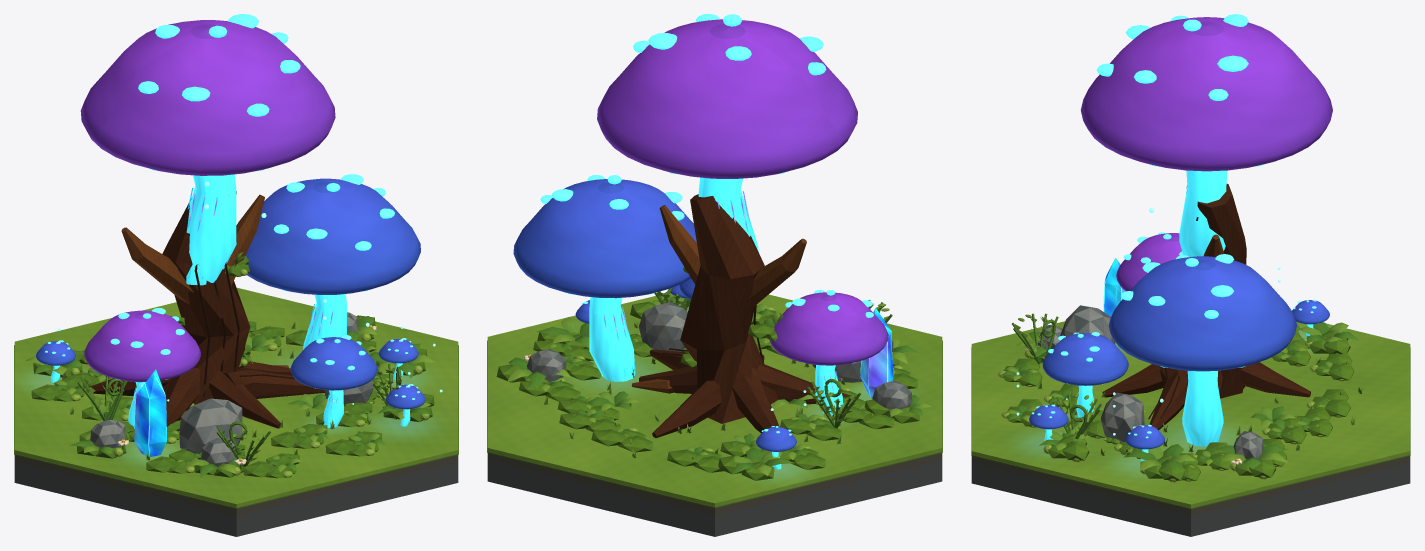
File: hex_bioluminescent_grove.glb
3 renders of one model, left to right at view 1: azimuth 30°, elevation 25°; view 2: azimuth 150°, elevation 25°; view 3: azimuth 270°, elevation 25°, orthographic. The views are drawn at different scales.
Parts seen in each view (by area): view 1: Standard hex meadow top.001, Broad faceted mushroom cap.002, Broad faceted mushroom cap.003, Standard hex stone foundation.001, Ancient twisting trunk.001, Broad faceted mushroom cap.004, Curving luminous mushroom stem.002, Standard hex earth layer.001, Broad faceted mushroom cap.005, Angular mossy forest boulder.001, Faceted magical crystal.001, Broken woodland branch.002 (+12 smaller); view 2: Standard hex meadow top.001, Broad faceted mushroom cap.002, Broad faceted mushroom cap.003, Ancient twisting trunk.001, Standard hex stone foundation.001, Broad faceted mushroom cap.004, Standard hex earth layer.001, Curving luminous mushroom stem.003, Angular mossy forest boulder.002, Tree buttress root.006, Tree buttress root.007, Curving luminous mushroom stem.002 (+10 smaller); view 3: Standard hex meadow top.001, Broad faceted mushroom cap.002, Broad faceted mushroom cap.003, Standard hex stone foundation.001, Broad faceted mushroom cap.005, Standard hex earth layer.001, Curving luminous mushroom stem.002, Curving luminous mushroom stem.003, Ancient twisting trunk.001, Broad faceted mushroom cap.004, Angular mossy forest boulder.002, Gnarled exposed root.001 (+8 smaller).
Part boxes in pixels (<box>): Standard hex meadow top.001: <box>14,287,458,507</box>; Broad faceted mushroom cap.002: <box>80,20,335,175</box>; Broad faceted mushroom cap.003: <box>245,178,420,294</box>; Standard hex stone foundation.001: <box>14,462,458,536</box>; Ancient twisting trunk.001: <box>162,191,250,404</box>; Broad faceted mushroom cap.004: <box>84,310,200,382</box>; Curving luminous mushroom stem.002: <box>186,174,236,285</box>; Standard hex earth layer.001: <box>14,455,458,515</box>; Broad faceted mushroom cap.005: <box>290,337,377,390</box>; Angular mossy forest boulder.001: <box>179,398,242,457</box>; Faceted magical crystal.001: <box>134,369,166,456</box>; Broken woodland branch.002: <box>121,227,193,304</box>; Standard hex meadow top.001: <box>487,293,942,506</box>; Broad faceted mushroom cap.002: <box>597,19,857,178</box>; Broad faceted mushroom cap.003: <box>513,179,696,298</box>; Ancient twisting trunk.001: <box>680,194,778,423</box>; Standard hex stone foundation.001: <box>487,460,942,536</box>; Broad faceted mushroom cap.004: <box>769,292,888,365</box>; Standard hex earth layer.001: <box>487,453,942,515</box>; Curving luminous mushroom stem.003: <box>589,297,635,381</box>; Angular mossy forest boulder.002: <box>638,302,687,351</box>; Tree buttress root.006: <box>652,380,721,437</box>; Tree buttress root.007: <box>732,367,779,433</box>; Curving luminous mushroom stem.002: <box>698,177,758,251</box>; Standard hex meadow top.001: <box>971,321,1410,507</box>; Broad faceted mushroom cap.002: <box>1080,17,1332,171</box>; Broad faceted mushroom cap.003: <box>1108,256,1296,371</box>; Standard hex stone foundation.001: <box>971,463,1410,536</box>; Broad faceted mushroom cap.005: <box>1042,333,1128,385</box>; Standard hex earth layer.001: <box>971,456,1410,516</box>; Curving luminous mushroom stem.002: <box>1179,170,1227,256</box>; Curving luminous mushroom stem.003: <box>1182,371,1223,446</box>; Ancient twisting trunk.001: <box>1197,183,1246,398</box>; Broad faceted mushroom cap.004: <box>1116,233,1181,291</box>; Angular mossy forest boulder.002: <box>1100,392,1144,442</box>; Gnarled exposed root.001: <box>1149,366,1188,430</box>.
Size of the model in its own units: 5.11 by 4.45 by 4.42.
Materials: 41 (31 with a texture image).
